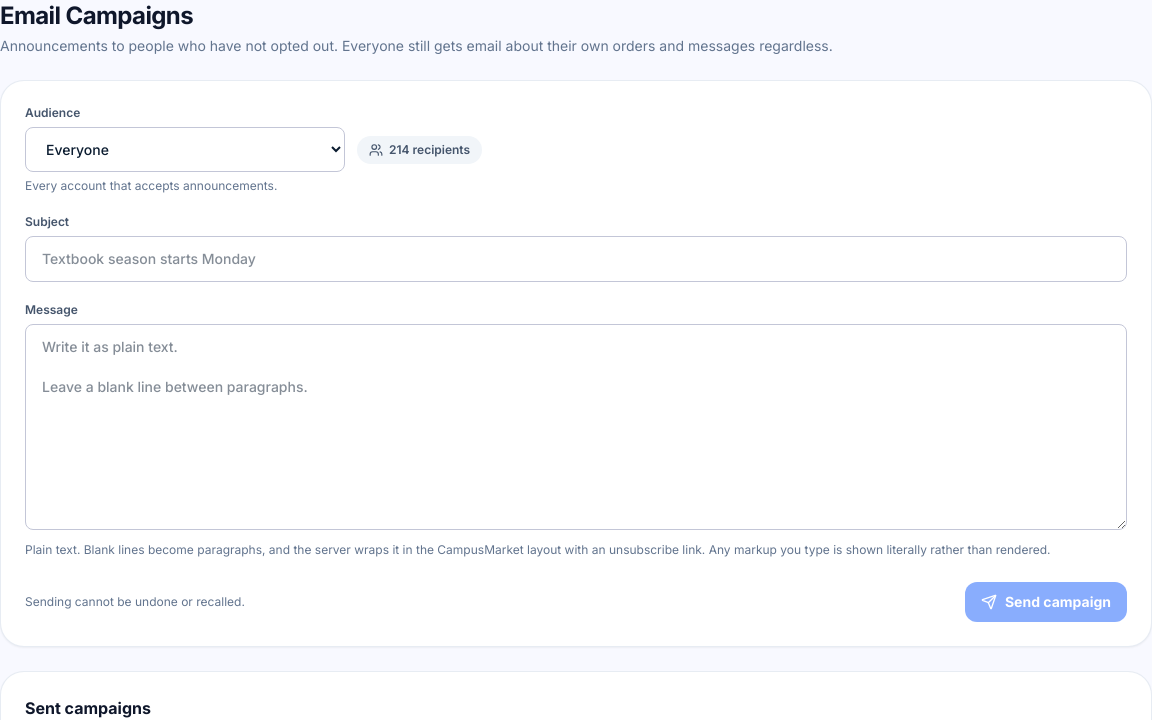
Test: CampaignComposer › shows the server reason when a campaign comes back FAILED
Expected: the text "214 recipients" is shown, 357,136 -> 482,164
Type "Hello" into the field with placeholder "Textbook season starts Monday" at point(576, 259), box 25,236 -> 1127,282
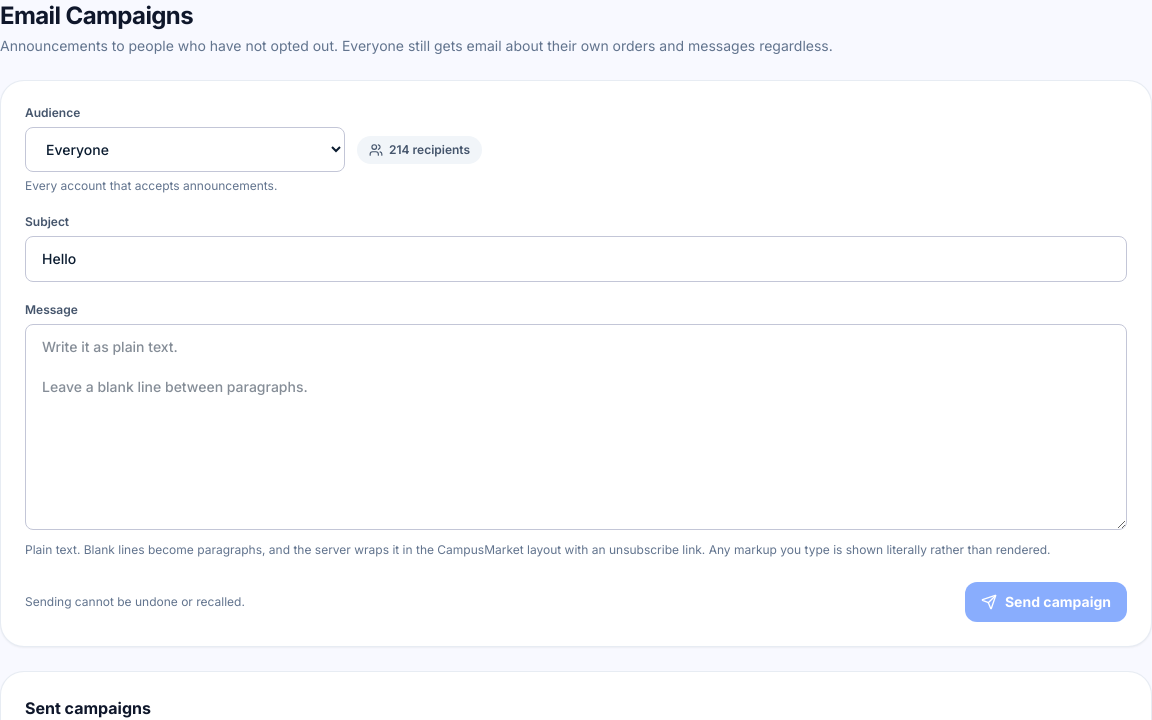
Replace the text in the text box with "Body text" at point(576, 427), box 25,324 -> 1127,530
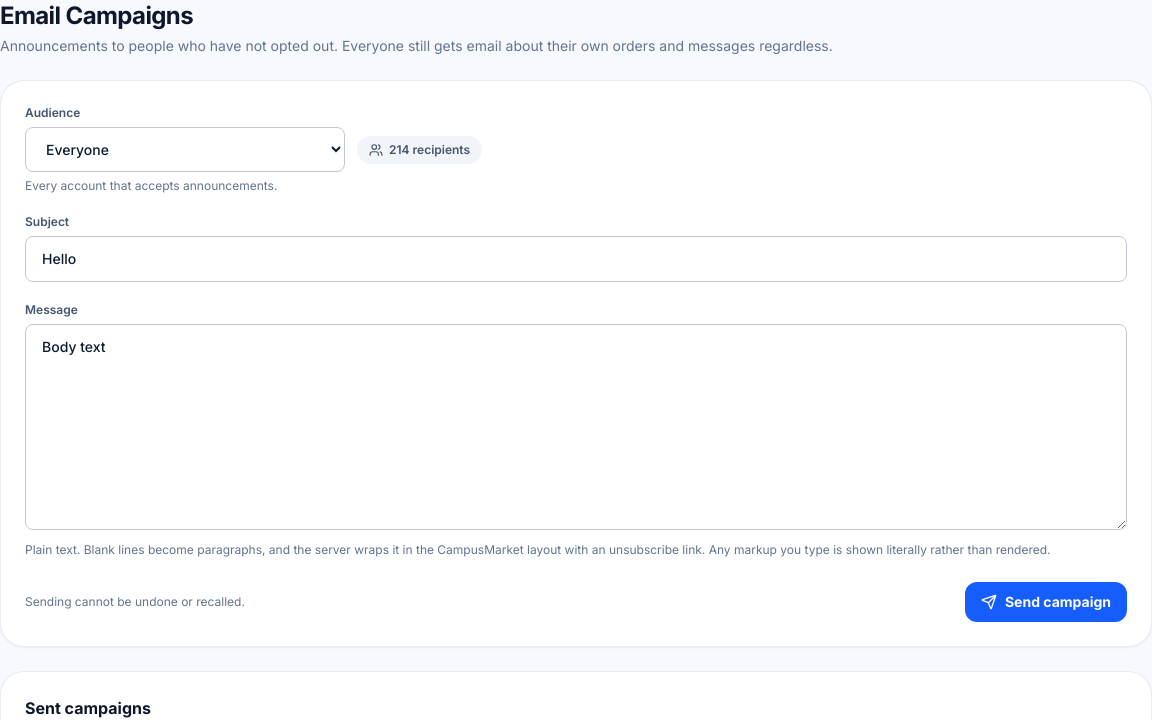
Click the button "Send campaign" at point(1046, 602), box 965,582 -> 1127,622
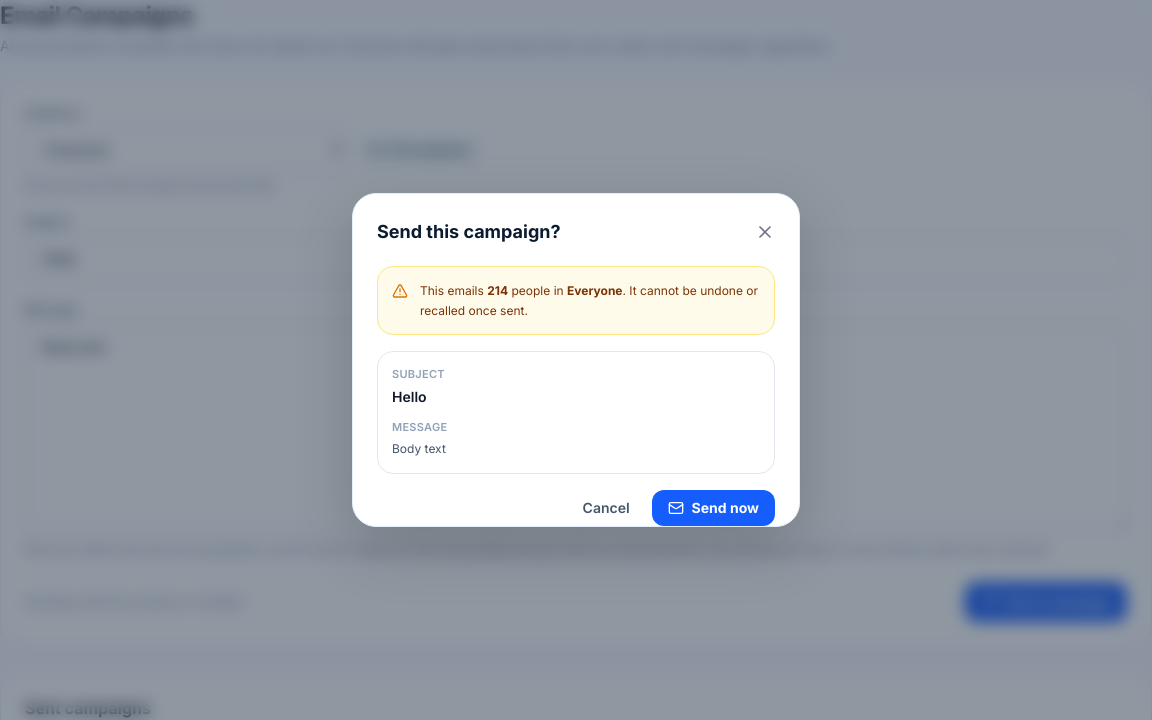
Click the button "Send now" at point(713, 508), box 652,490 -> 775,526
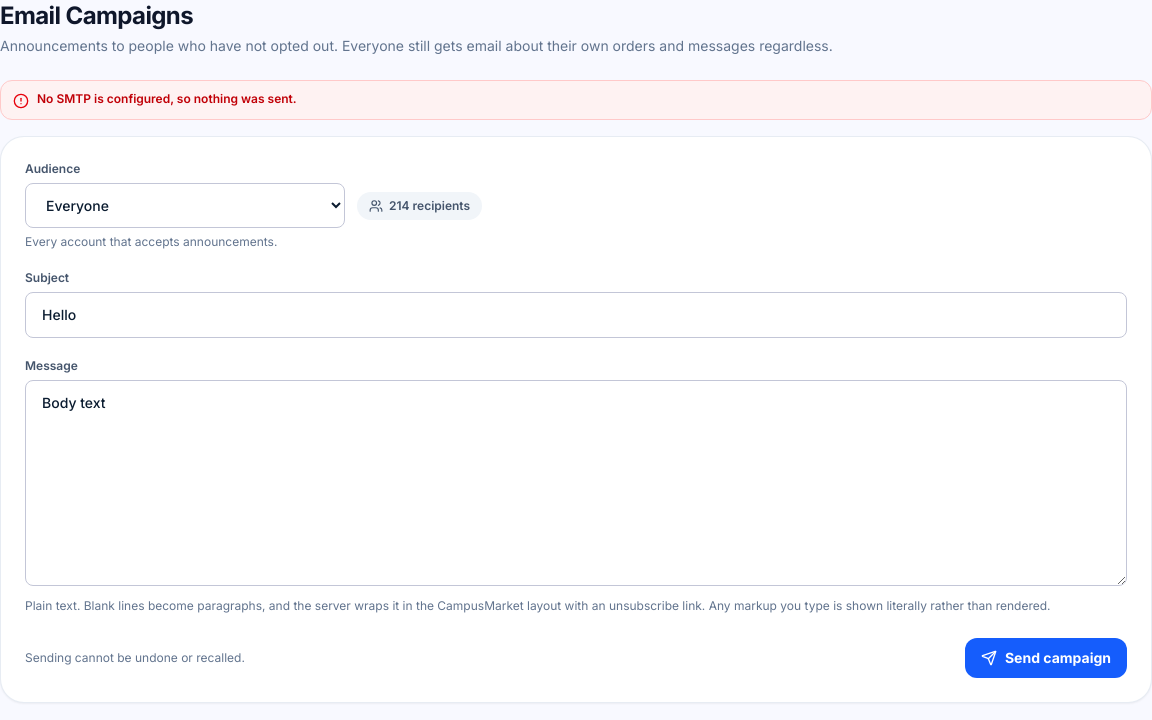
Result: the text "No SMTP is configured, so nothing was sent." is shown at 37,91 -> 297,107
